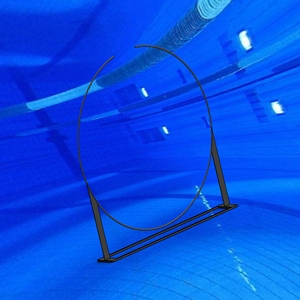circle: (76, 43, 240, 264)
